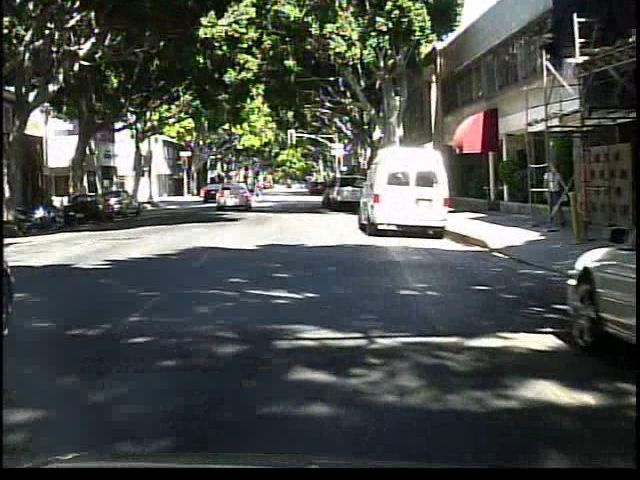person: (539, 160, 566, 234), (250, 175, 268, 208)
